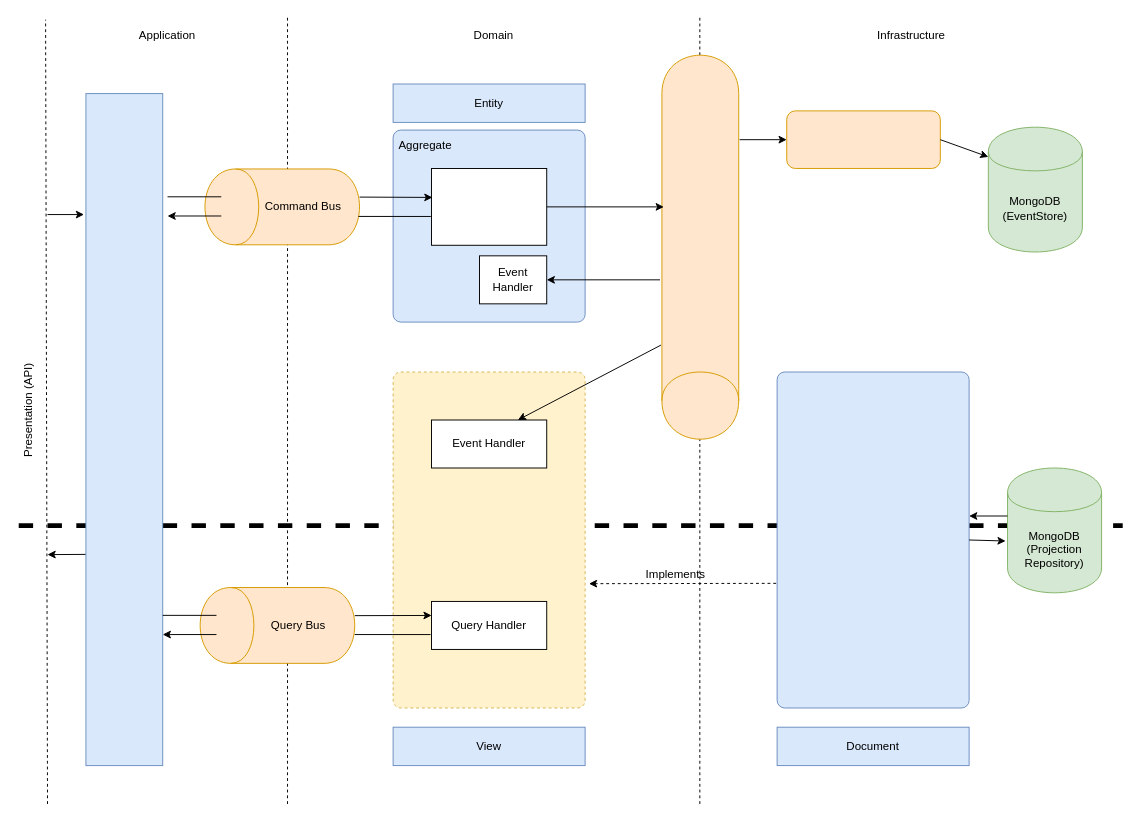
Some shapes in this 1142 by 822 pixel diagram are drawn without their labels. Here are the shapes that lost their labels. From the top down, the box of each, then its label:
(786, 110, 940, 168): MongoEventStorageEngine
(431, 168, 547, 245): Command Handler
(661, 54, 739, 439): Event Bus
(85, 93, 163, 766): Send commands and queries
(392, 371, 585, 708): ProjectionRepository
(776, 371, 969, 708): MongoProjectionRepository
